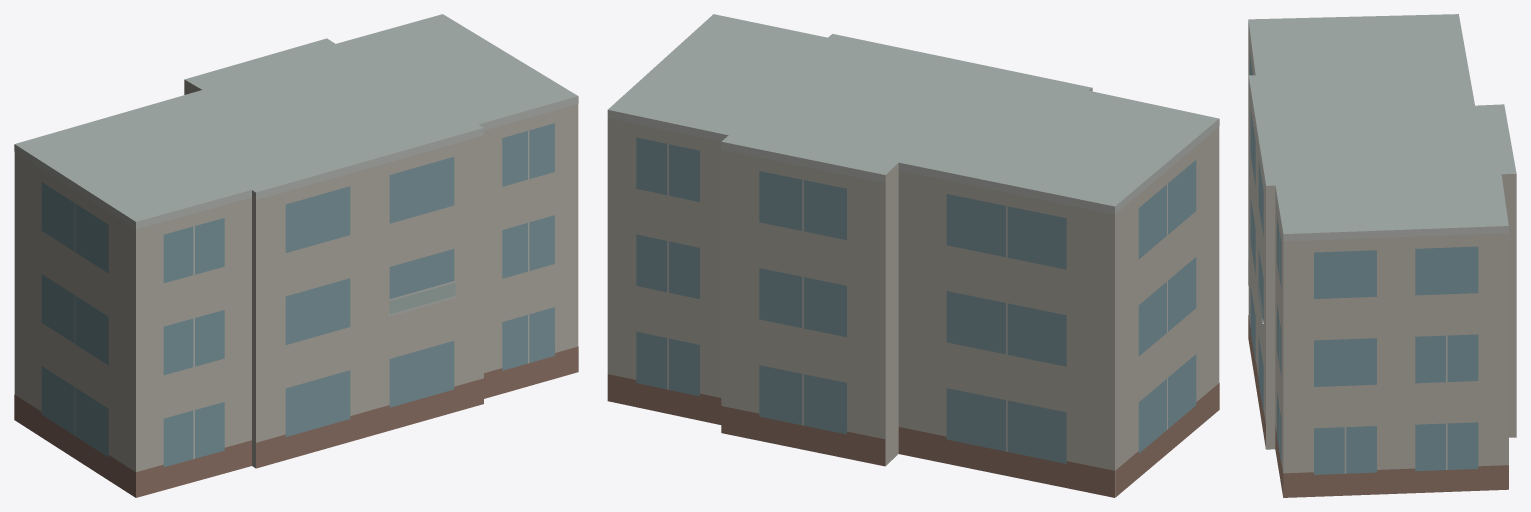
Rendered from survey-upis-32735134.glb.
The picture shows the model from 3 angles, left to right: view 1: azimuth 30°, elevation 25°; view 2: azimuth 150°, elevation 25°; view 3: azimuth 270°, elevation 25°; orthographic projection. The views are drawn at different scales.
Visible parts, largest first — view 1: survey-upis-32735134.tmp; view 2: survey-upis-32735134.tmp; view 3: survey-upis-32735134.tmp.
Part boxes in pixels (x1,y1,x2,y2): survey-upis-32735134.tmp: (14,14,578,497); survey-upis-32735134.tmp: (607,14,1219,497); survey-upis-32735134.tmp: (1248,14,1516,497).
Bounding box in the file's own units: 15.94 × 8.9 × 8.22.
